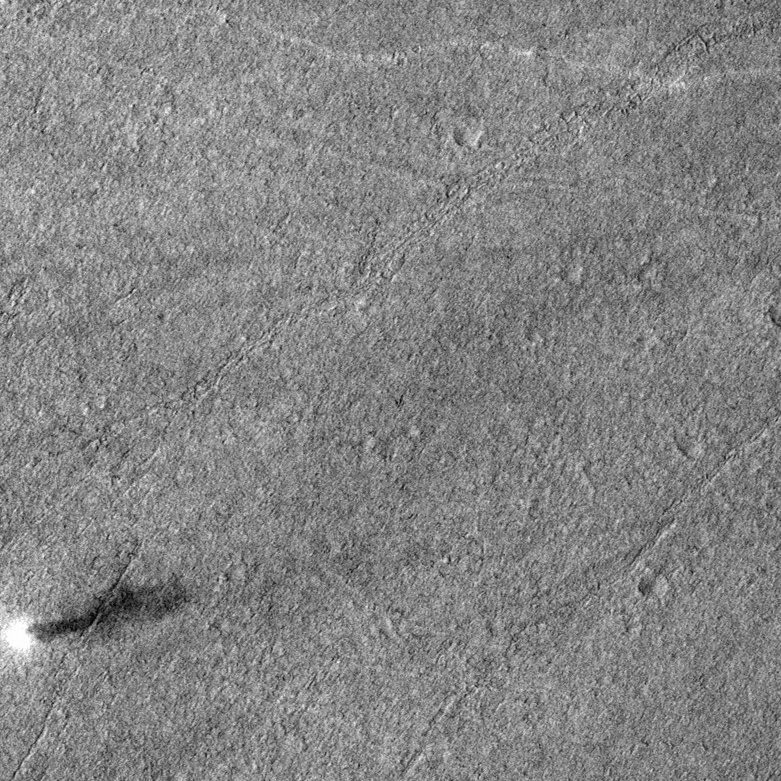dust_devil: (1, 579, 188, 657)
